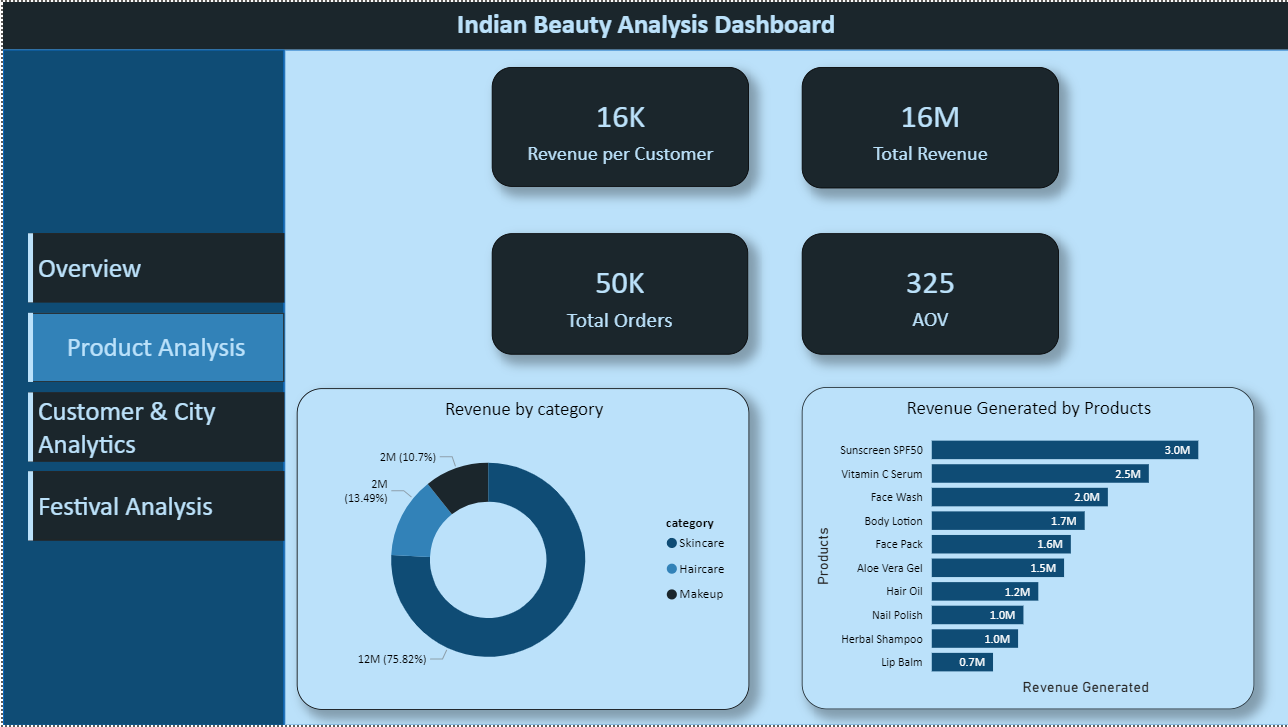

What the dashboard file says about the page in this screenshot:
{"tool":"powerbi","page":{"name":"Product Analysis","canvas":[1280,720],"ordinal":1},"visuals":[{"type":"shape","box":[279.9,47,1000.1,673],"z":0},{"type":"barChart","fields":{"Category":["sales_encriched.product_name"],"Y":["KPI & Measures.Total Revenue"]},"box":[794.9,383.1,450.3,320.9],"z":1000},{"type":"donutChart","title":" Revenue by category","fields":{"Category":["sales_encriched.category"],"Y":["KPI & Measures.Total Revenue"]},"box":[292.2,384,450.8,320],"z":2000},{"type":"textbox","box":[0,0,1280,47.3],"z":3000},{"type":"shape","box":[0,47,279.9,673],"z":4000},{"type":"pageNavigator","box":[24.9,230.1,255,306],"z":5000},{"type":"card","fields":{"Values":["KPI & Measures.Total Revenue"]},"box":[794.9,64.4,256.3,120.7],"z":6000},{"type":"card","fields":{"Values":["KPI & Measures.AOV"]},"box":[794.9,230.1,256.3,120.7],"z":7000},{"type":"card","fields":{"Values":["KPI & Measures.Revenue per Customer"]},"box":[486.1,65,256.3,119.4],"z":8000},{"type":"card","fields":{"Values":["KPI & Measures.Total Orders"]},"box":[486.7,230.1,255,120.7],"z":9000}]}

Visuals, with their boxes in screenshot pixels (x1, y1, x2, y2), scaled from the page's 1280x720 canvas onto the 1288x727 screenshot:
shape: box=[282, 47, 1287, 726]
barChart - sales_encriched.product_name x KPI & Measures.Total Revenue: box=[800, 387, 1253, 711]
" Revenue by category" donutChart: box=[294, 388, 748, 711]
textbox: box=[0, 0, 1287, 48]
shape: box=[0, 47, 282, 726]
pageNavigator: box=[25, 232, 282, 541]
card - KPI & Measures.Total Revenue: box=[800, 65, 1058, 187]
card - KPI & Measures.AOV: box=[800, 232, 1058, 354]
card - KPI & Measures.Revenue per Customer: box=[489, 66, 747, 186]
card - KPI & Measures.Total Orders: box=[490, 232, 746, 354]
